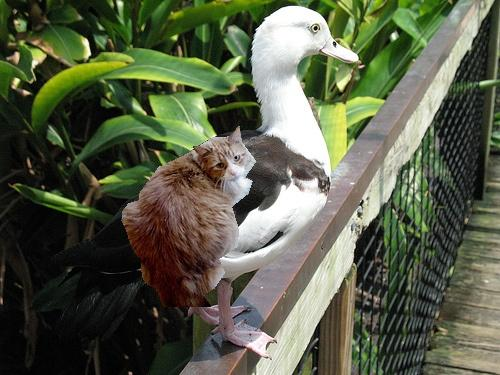tampered: (122, 127, 256, 307)
